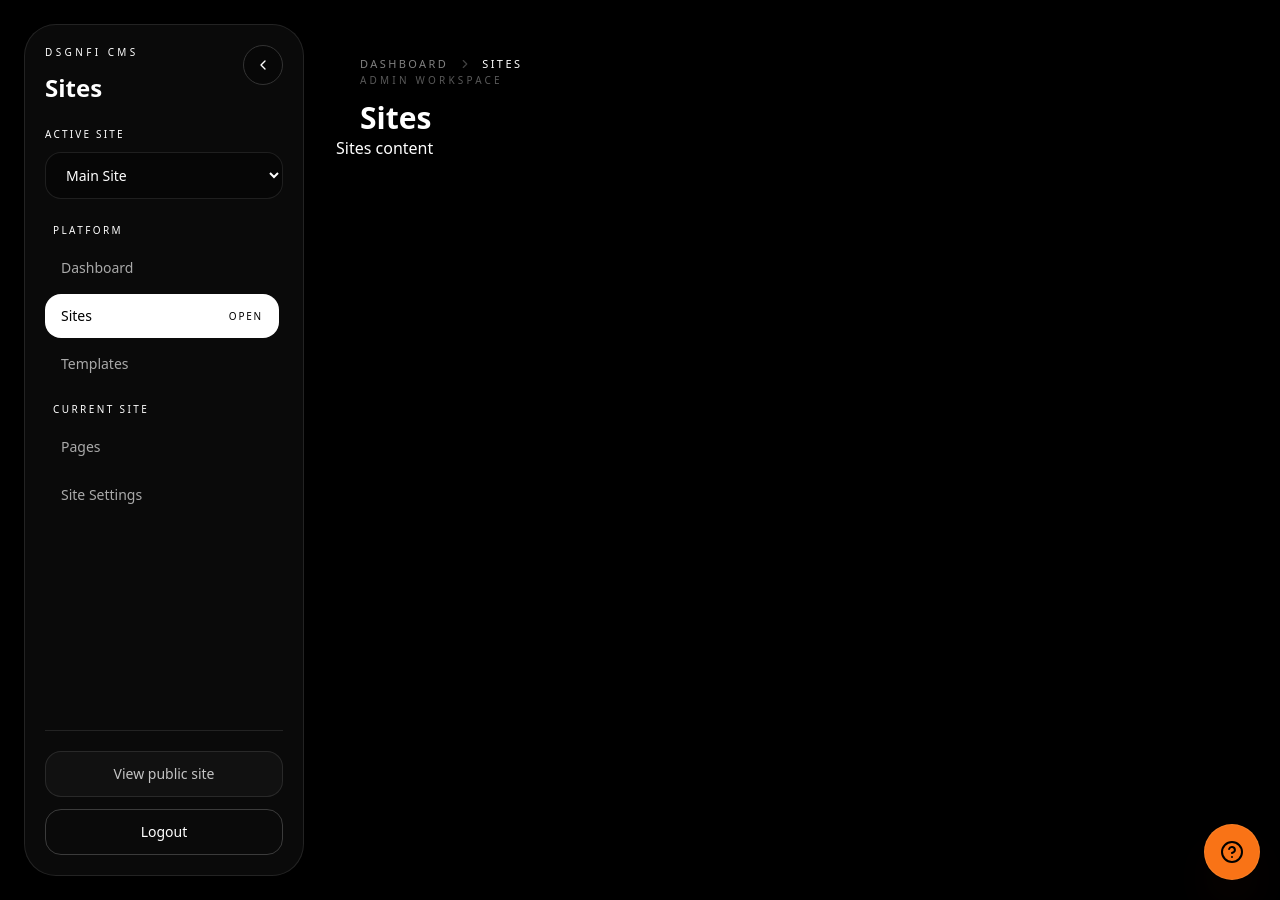
AdminShell › persists the desktop sidebar collapse state
Click the button named "Collapse side navigation". click: (263, 65)
box: x1=243 y1=45 x2=283 y2=85
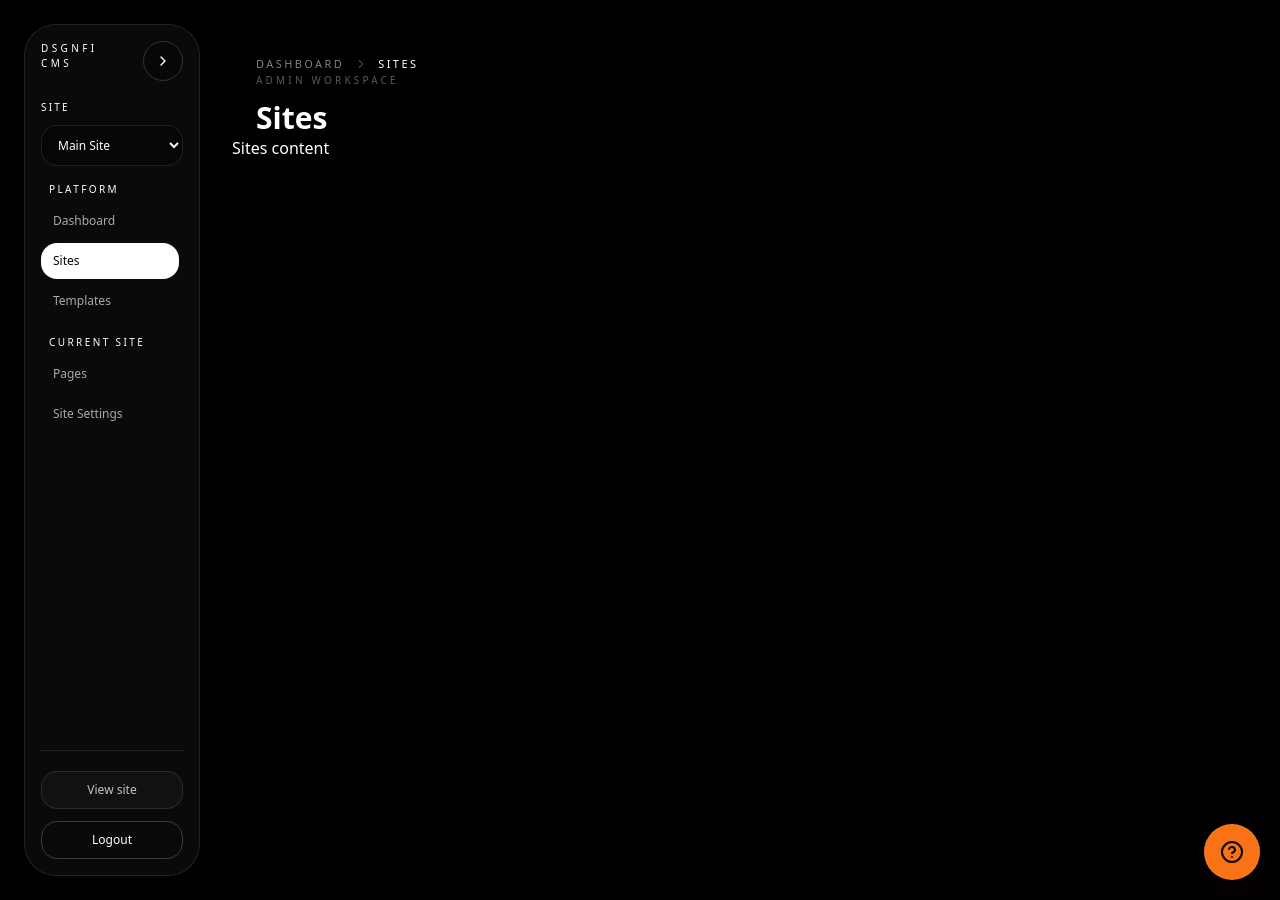
Result: the button named "Expand side navigation" is shown at x1=143 y1=41 x2=183 y2=81
